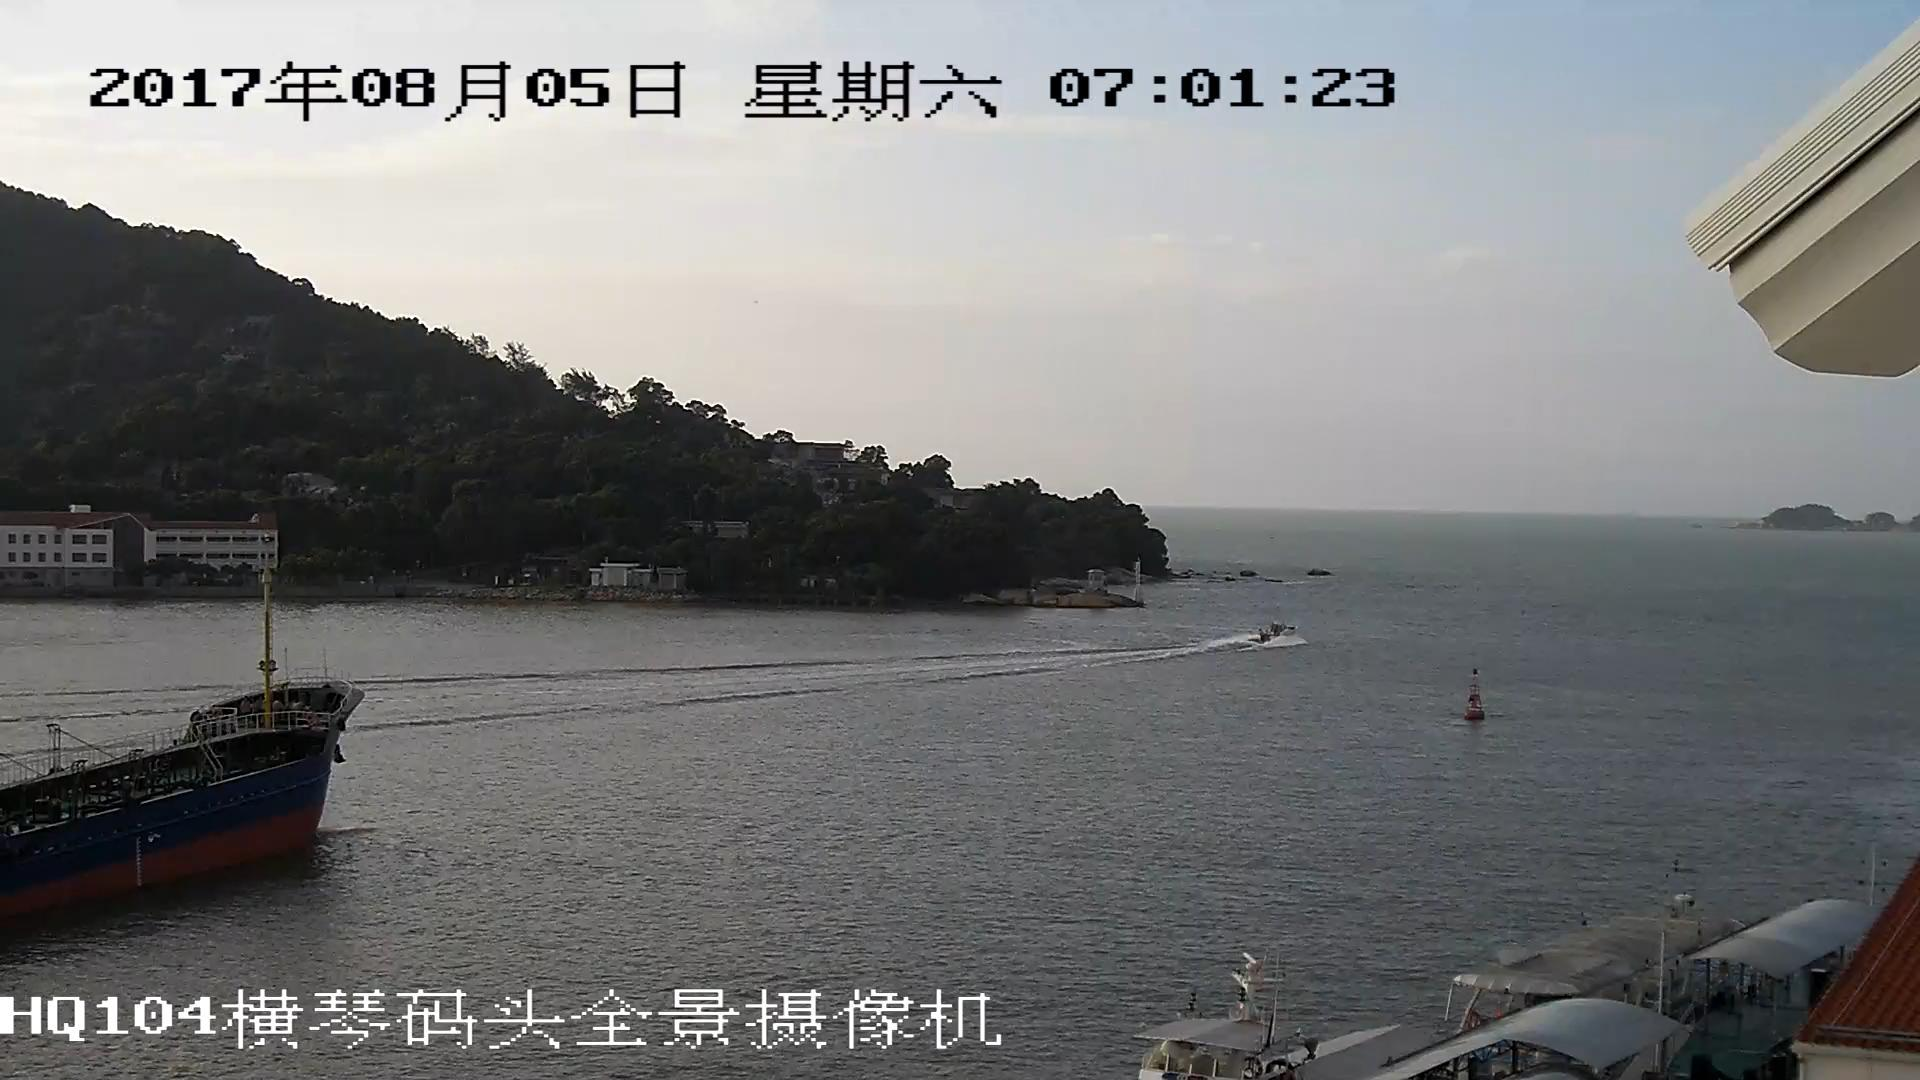Ship: (3, 543, 353, 935)
